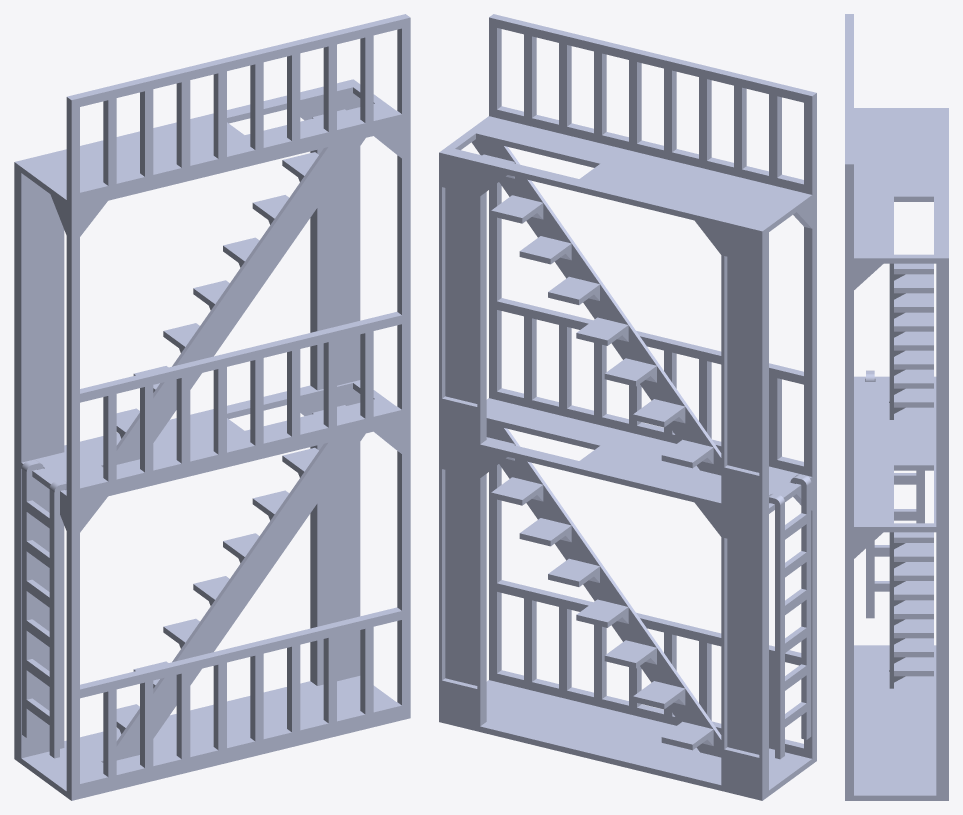
Rendered from smiski-balcony.glb.
The picture shows the model from 3 angles, left to right: view 1: azimuth 30°, elevation 25°; view 2: azimuth 150°, elevation 25°; view 3: azimuth 270°, elevation 25°; orthographic projection. The views are drawn at different scales.
Parts seen in each view (by area): view 1: balcony 1-1, stairs 1-1, stairs 1-2, ladder 1-1; view 2: balcony 1-1, stairs 1-2, stairs 1-1, ladder 1-1; view 3: balcony 1-1, stairs 1-2, stairs 1-1, ladder 1-1.
Part boxes in pixels (x1,y1,x2,y2): balcony 1-1: (14, 14, 410, 800); stairs 1-1: (102, 405, 365, 762); stairs 1-2: (102, 109, 365, 466); ladder 1-1: (22, 459, 66, 758); balcony 1-1: (439, 14, 816, 800); stairs 1-2: (471, 139, 721, 475); stairs 1-1: (486, 424, 721, 757); ladder 1-1: (769, 474, 811, 759); balcony 1-1: (845, 14, 948, 800); stairs 1-2: (889, 263, 933, 419); stairs 1-1: (889, 532, 933, 688); ladder 1-1: (866, 370, 924, 618).
Bounding box in the file's own units: 0.122 × 0.237 × 0.035.
